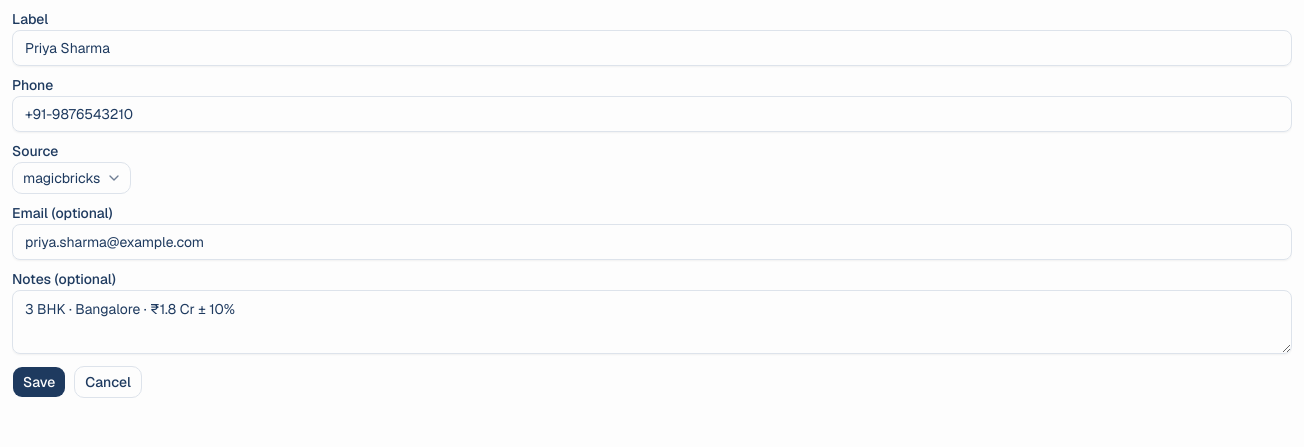
EditLeadForm › renders form-level error on unknown failure
Step 1. Click the button with test id "edit-save" → (39,382), box [12, 366, 66, 398]
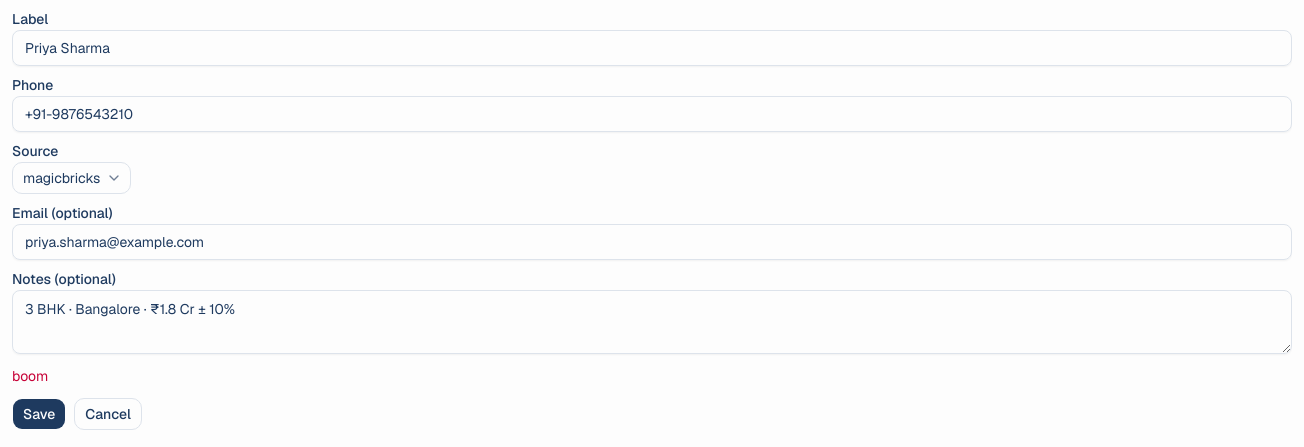
Now the message with test id "form-error" reads "boom", box [12, 367, 48, 385]
